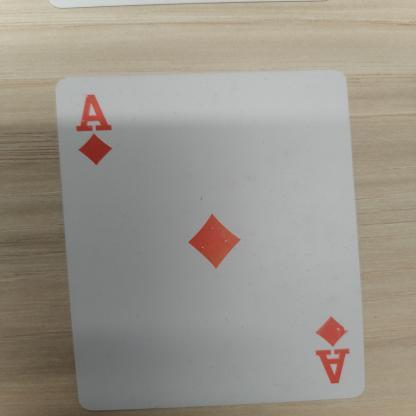AD: (297, 302, 372, 394), (64, 81, 125, 174)
